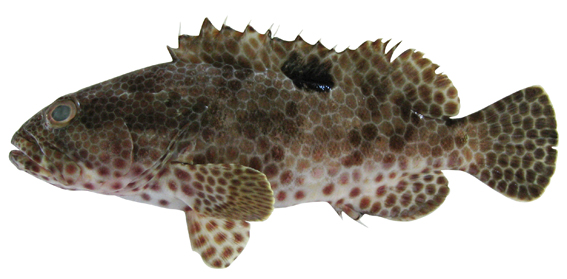fish: (9, 11, 559, 269)
